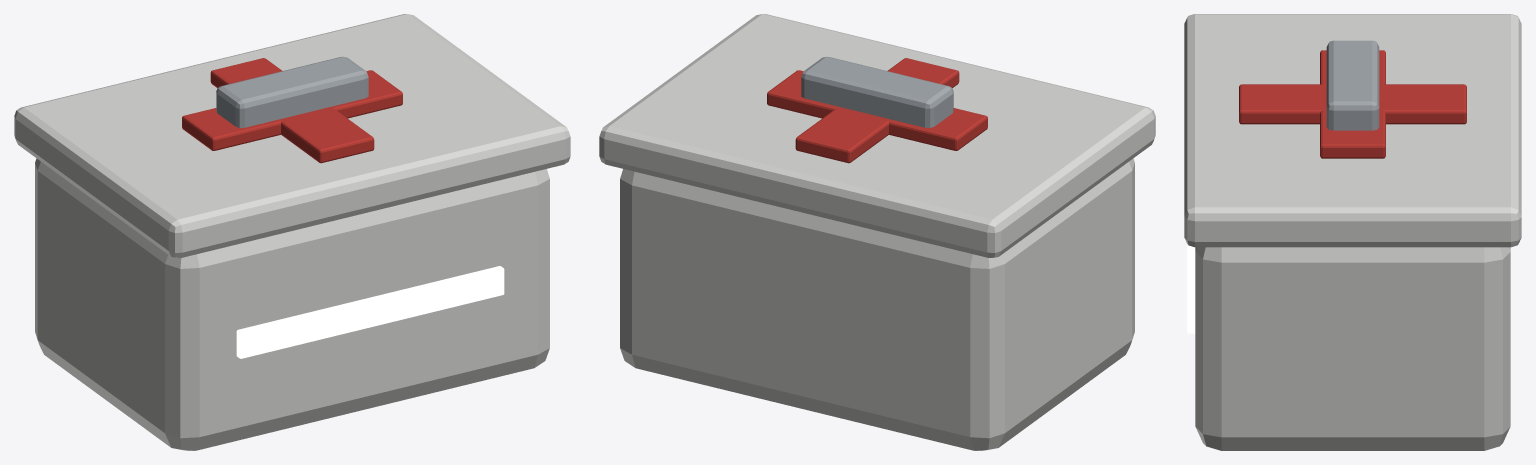
The model's file is pickup_med.glb.
The picture shows the model from 3 angles, left to right: view 1: azimuth 30°, elevation 25°; view 2: azimuth 150°, elevation 25°; view 3: azimuth 270°, elevation 25°; orthographic projection. The views are drawn at different scales.
Parts seen in each view (by area): view 1: pickup_med; view 2: pickup_med; view 3: pickup_med.
Boxes of the visible parts, x1,y1,x2,y2 form: pickup_med: [14, 14, 570, 450]; pickup_med: [599, 14, 1155, 450]; pickup_med: [1184, 14, 1521, 450].
Size of the model in its own units: 0.545 by 0.37 by 0.385.
